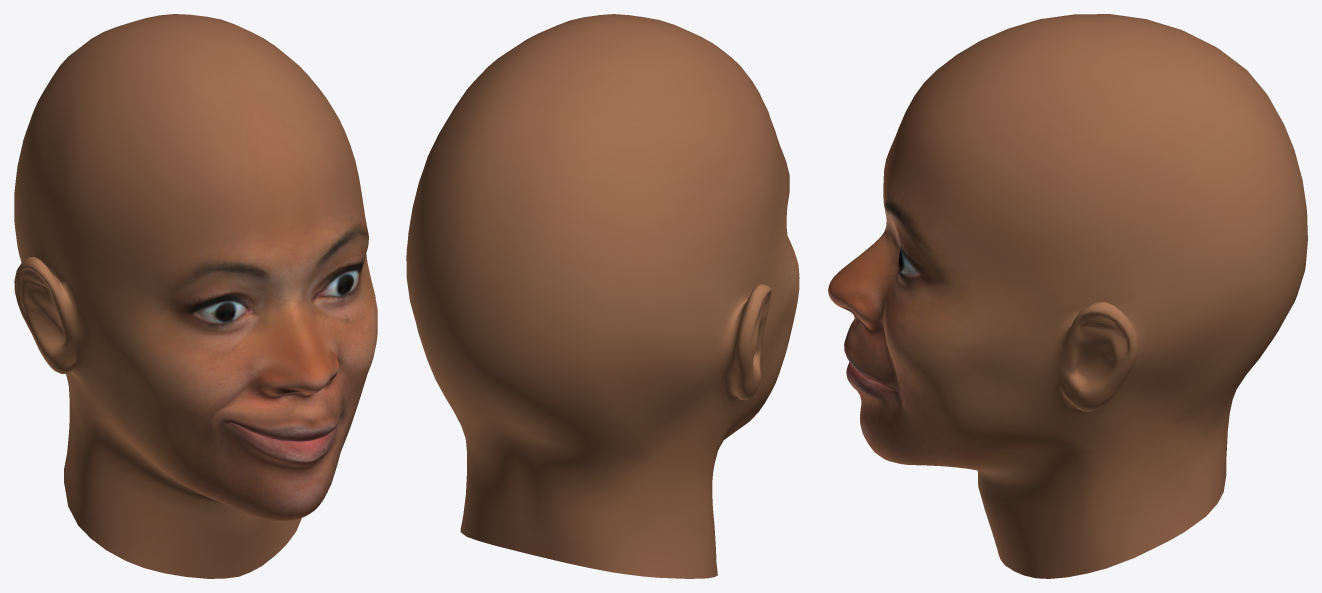
Rendered from v332_obj_ExpressionSmileRight.obj.
3 views of the same model, side by side, from view 1: azimuth 30°, elevation 25°; view 2: azimuth 150°, elevation 25°; view 3: azimuth 270°, elevation 25° (orthographic). The views are drawn at different scales.
Visible parts, largest first — view 1: HeadHires; view 2: HeadHires; view 3: HeadHires.
Part boxes in pixels (x1,y1,x2,y2): HeadHires: (14,14,377,578); HeadHires: (406,14,799,578); HeadHires: (828,14,1307,578).
Bounding box in the file's own units: 187 × 282 × 233.
